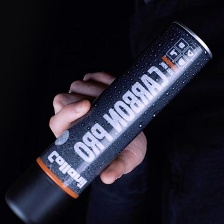aerosol_cans: (0, 14, 215, 224)
